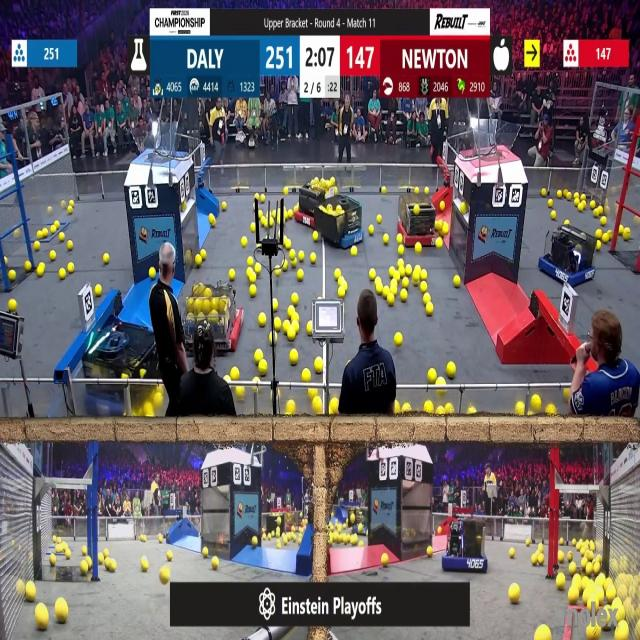ball_ground: (36, 605, 49, 631), (510, 586, 521, 606), (26, 583, 36, 602), (568, 588, 579, 605), (556, 572, 566, 590), (313, 396, 322, 414), (144, 403, 154, 418), (447, 361, 456, 377), (286, 401, 295, 417), (329, 398, 338, 413), (162, 566, 170, 582), (302, 370, 312, 382), (606, 588, 614, 602), (394, 334, 402, 348), (290, 350, 298, 364), (258, 360, 266, 374), (315, 358, 323, 372), (424, 400, 433, 412), (399, 288, 407, 301), (274, 318, 282, 331), (8, 300, 16, 313), (258, 313, 265, 327), (212, 556, 219, 570), (141, 558, 148, 572), (232, 367, 240, 379), (376, 282, 384, 294), (254, 349, 261, 362), (80, 560, 87, 573), (25, 262, 32, 274), (37, 265, 44, 277), (394, 400, 400, 413), (423, 292, 430, 303), (291, 293, 298, 304), (230, 270, 237, 281), (388, 294, 395, 305), (250, 285, 256, 297), (296, 270, 302, 282), (96, 284, 102, 296), (400, 278, 408, 287), (273, 300, 279, 312), (284, 319, 290, 331), (210, 214, 216, 226), (564, 388, 570, 400), (444, 222, 450, 234), (532, 554, 538, 566), (8, 271, 15, 281), (415, 244, 422, 254), (351, 534, 358, 544), (435, 239, 442, 249), (454, 276, 460, 287), (310, 252, 316, 263), (242, 237, 248, 248), (426, 305, 432, 316), (194, 255, 200, 266), (49, 555, 55, 566), (587, 563, 593, 574), (308, 321, 313, 334), (351, 247, 358, 256), (253, 265, 260, 274), (382, 286, 389, 295), (397, 246, 403, 256), (61, 270, 67, 280), (368, 270, 374, 280), (624, 231, 630, 241), (339, 288, 345, 298), (252, 536, 258, 546), (558, 552, 564, 562), (49, 250, 55, 260), (34, 241, 40, 251), (594, 563, 600, 573), (383, 235, 389, 245), (104, 253, 109, 264), (248, 256, 254, 265), (600, 216, 606, 225), (566, 553, 572, 562), (289, 250, 295, 259), (68, 241, 74, 250), (68, 265, 74, 274), (298, 251, 304, 260), (313, 232, 318, 242), (168, 552, 173, 562), (202, 249, 207, 259), (204, 546, 209, 556), (81, 544, 86, 554), (250, 222, 256, 230), (556, 190, 562, 198), (537, 543, 543, 551), (596, 242, 602, 250), (66, 551, 71, 560), (441, 202, 446, 211), (61, 233, 66, 242), (428, 545, 432, 556), (596, 232, 602, 239), (276, 270, 282, 277), (368, 224, 372, 234), (336, 270, 341, 278), (604, 234, 608, 243), (198, 258, 202, 267), (547, 201, 552, 208), (68, 207, 73, 214), (378, 215, 382, 223), (258, 210, 262, 218), (284, 263, 288, 270), (264, 197, 266, 202)
goal: (464, 122, 520, 160)
robot_blue: (541, 223, 596, 285), (443, 516, 487, 572), (323, 192, 365, 249)
robot_red: (182, 282, 243, 358), (294, 176, 338, 229), (398, 189, 438, 246)
